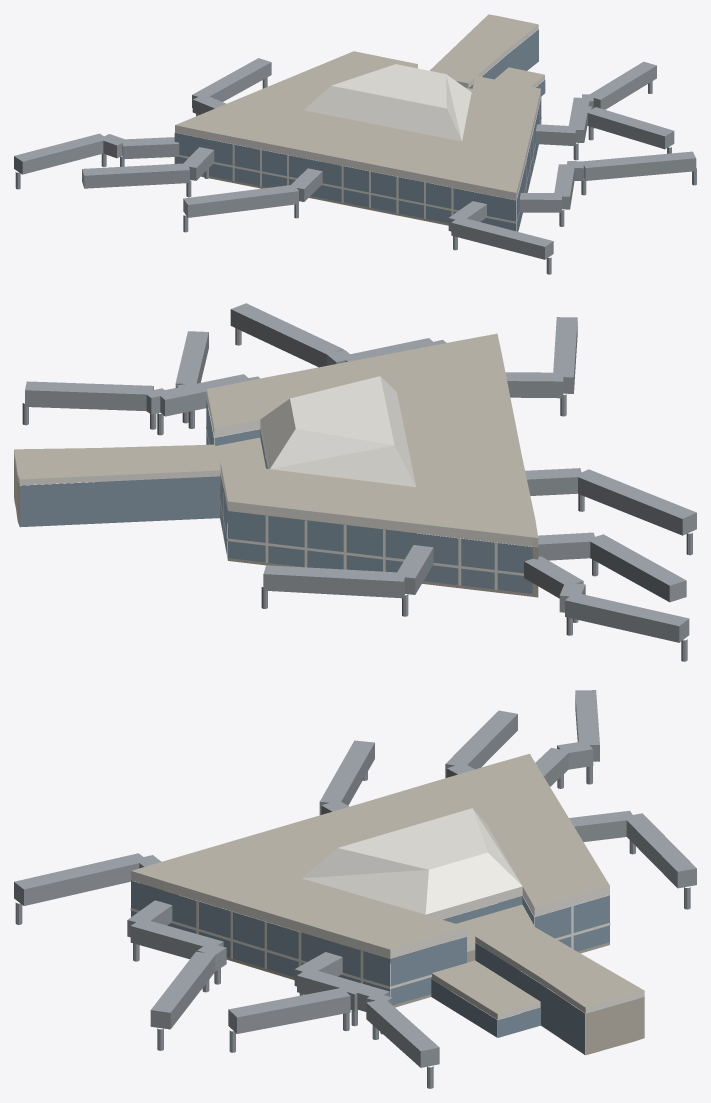
Rendered from paris-cdg-terminal-1-satellite-z.detail.glb.
The picture shows the model from 3 angles, top to bottom: view 1: azimuth 30°, elevation 25°; view 2: azimuth 150°, elevation 25°; view 3: azimuth 270°, elevation 25°; orthographic projection. The views are drawn at different scales.
Parts seen in each view (by area): view 1: Paris-CDG Terminal 1 Satellite Z; view 2: Paris-CDG Terminal 1 Satellite Z; view 3: Paris-CDG Terminal 1 Satellite Z.
Part boxes in pixels (x1,y1,x2,y2): Paris-CDG Terminal 1 Satellite Z: (14, 14, 696, 274); Paris-CDG Terminal 1 Satellite Z: (14, 303, 696, 661); Paris-CDG Terminal 1 Satellite Z: (14, 690, 696, 1088).
Size of the model in its own units: 131 by 15 by 104.
